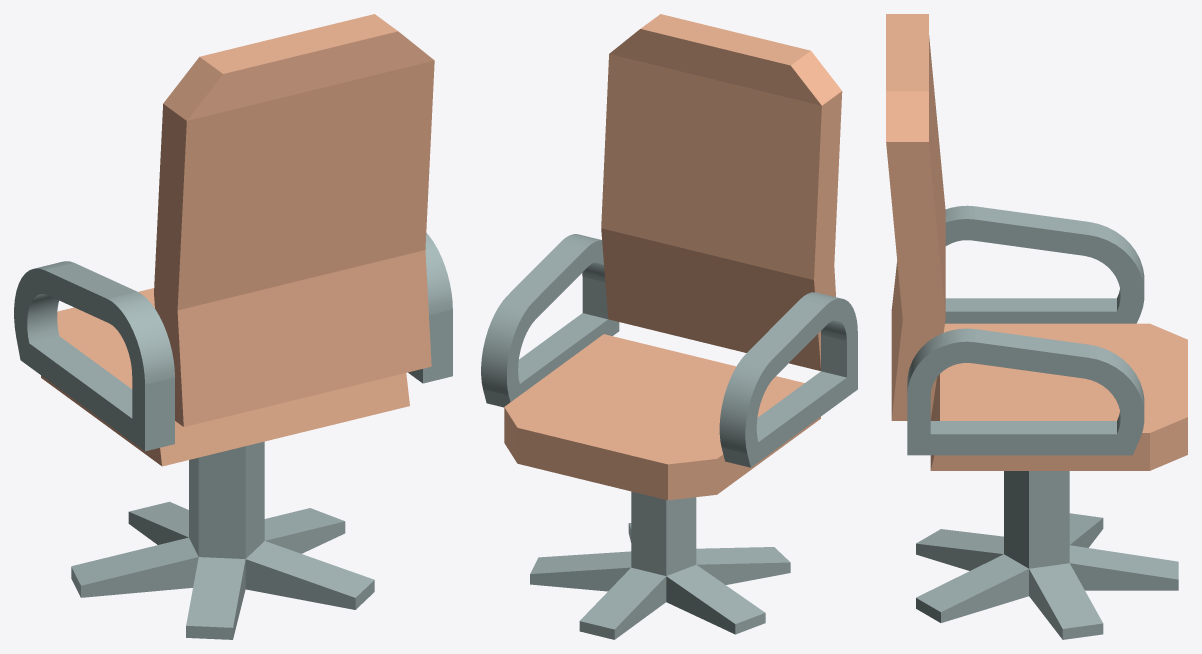
The model's file is chairDesk.glb.
3 renders of one model, left to right at view 1: azimuth 30°, elevation 25°; view 2: azimuth 150°, elevation 25°; view 3: azimuth 270°, elevation 25°, orthographic. The views are drawn at different scales.
Parts seen in each view (by area): view 1: chairDesk; view 2: chairDesk; view 3: chairDesk.
Part boxes in pixels (box(x1,y1,x2,y2)): chairDesk: box(14, 14, 452, 639); chairDesk: box(481, 14, 857, 639); chairDesk: box(886, 14, 1187, 639).
Size of the model in its own units: 3.35 by 6.08 by 3.14.
